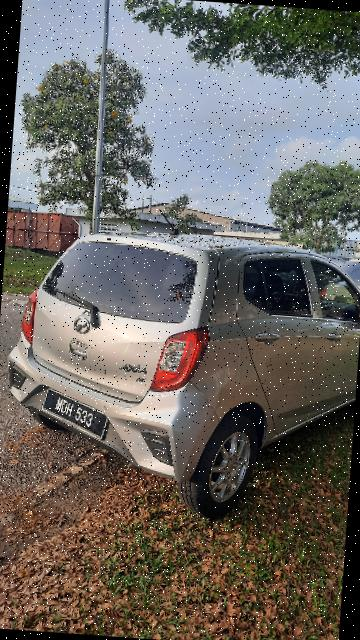License_Plate: (39, 388, 113, 443)
car: (1, 214, 360, 526)
